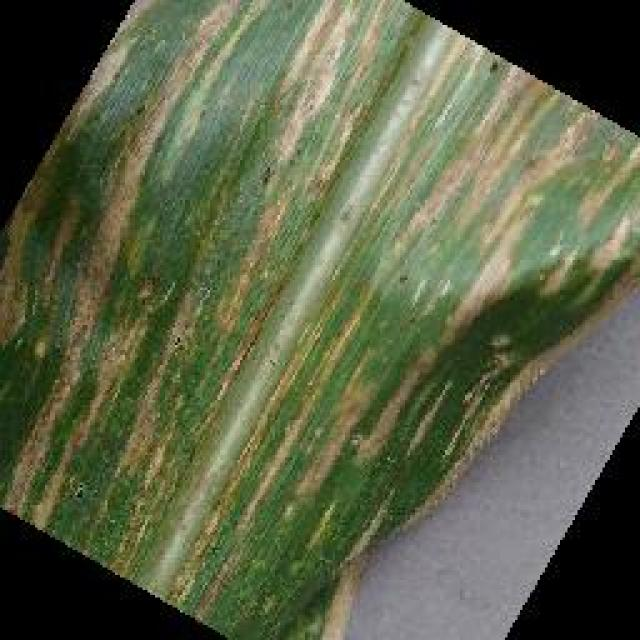Corn_Grey_Leaf_Spot: (110, 55, 477, 537)
